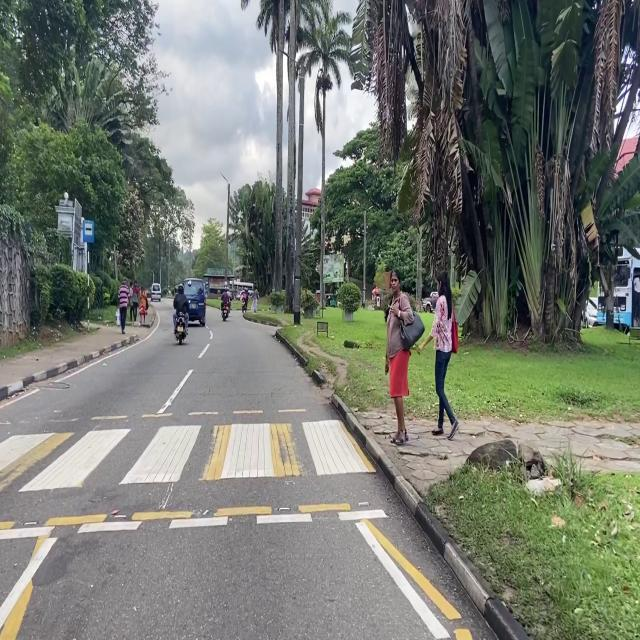bus: (596, 250, 640, 334), (233, 280, 254, 299)
car: (583, 297, 598, 328)
motorcycle: (175, 312, 187, 345), (221, 304, 229, 321), (242, 301, 247, 314)
person: (417, 271, 459, 440), (386, 270, 424, 444), (173, 285, 189, 331), (118, 280, 130, 334), (632, 275, 640, 327), (131, 280, 140, 322), (139, 287, 148, 324), (251, 284, 258, 312), (128, 283, 133, 322), (221, 288, 229, 309), (242, 289, 249, 303)
three wheeler: (326, 293, 336, 307)
van: (183, 279, 205, 327), (151, 283, 161, 301)
